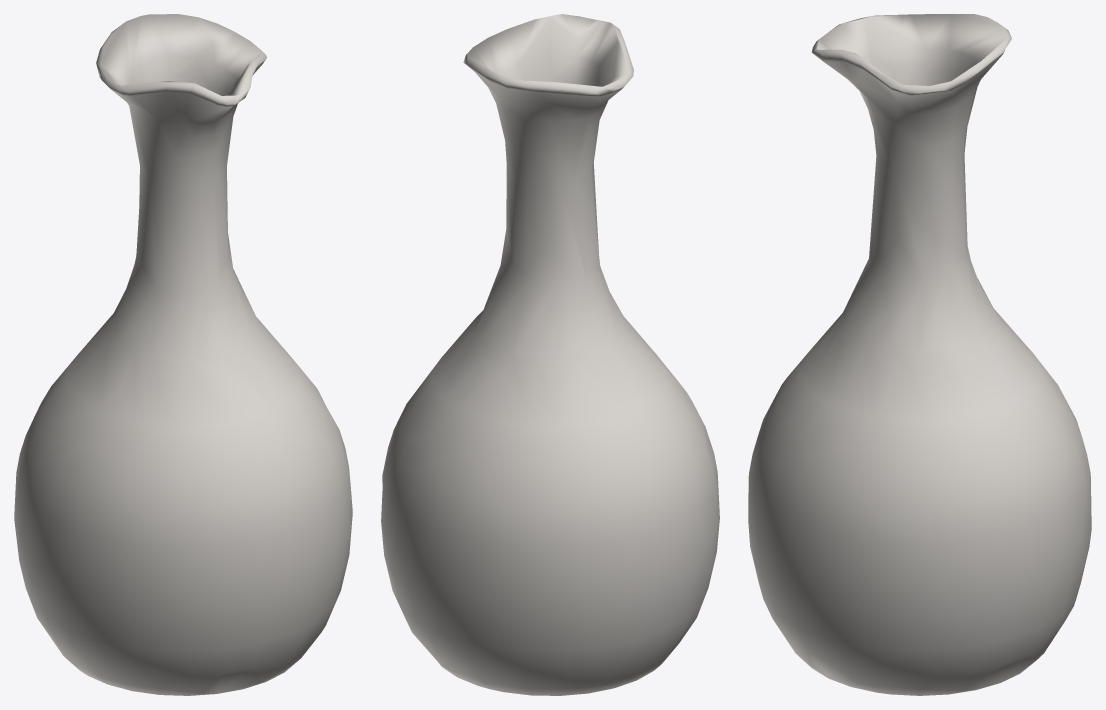
Rendered from ceramic_vase_01.glb.
3 renders of one model, left to right at view 1: azimuth 30°, elevation 25°; view 2: azimuth 150°, elevation 25°; view 3: azimuth 270°, elevation 25°, orthographic.
Parts seen in each view (by area): view 1: ceramic_vase_01; view 2: ceramic_vase_01; view 3: ceramic_vase_01.
Boxes of the visible parts, x1,y1,x2,y2 form: ceramic_vase_01: [14, 14, 352, 695]; ceramic_vase_01: [381, 14, 719, 695]; ceramic_vase_01: [748, 14, 1091, 695].
Bounding box in the file's own units: 0.2024 × 0.4003 × 0.2024.
Materials: 1 (1 with a texture image).
